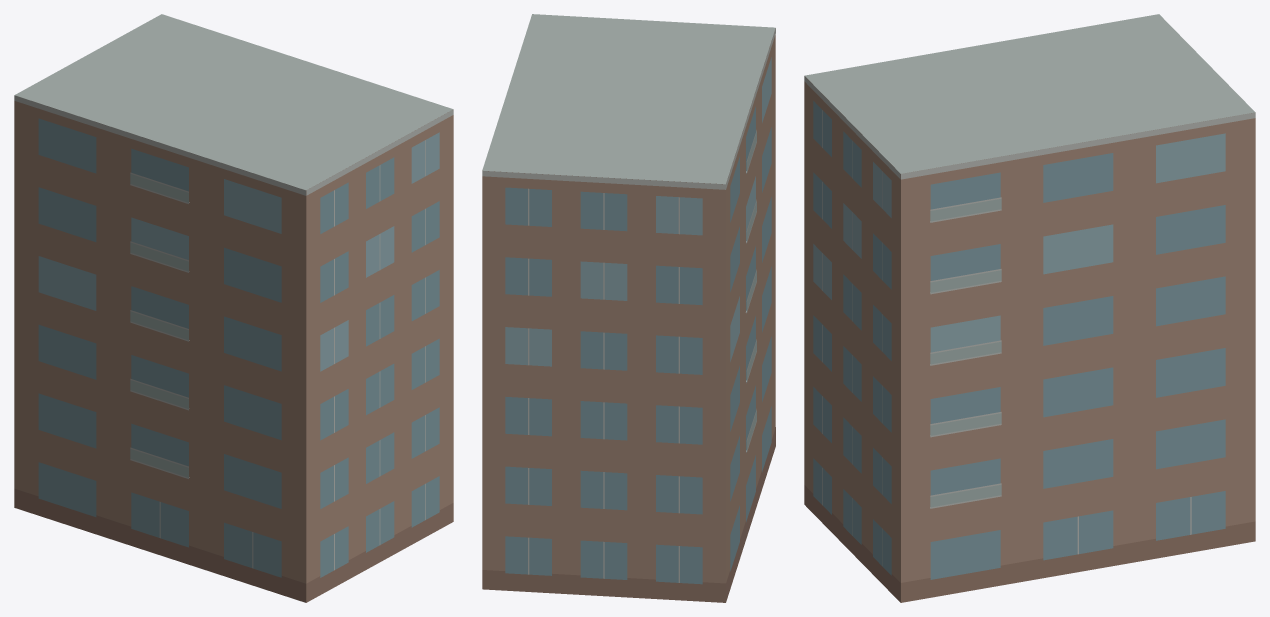
File: survey-upis-32582844.glb
The picture shows the model from 3 angles, left to right: view 1: azimuth 30°, elevation 25°; view 2: azimuth 150°, elevation 25°; view 3: azimuth 270°, elevation 25°; orthographic projection. The views are drawn at different scales.
Parts seen in each view (by area): view 1: survey-upis-32582844.tmp; view 2: survey-upis-32582844.tmp; view 3: survey-upis-32582844.tmp.
Boxes of the visible parts, x1,y1,x2,y2 form: survey-upis-32582844.tmp: (14, 14, 453, 602); survey-upis-32582844.tmp: (482, 14, 775, 602); survey-upis-32582844.tmp: (804, 14, 1255, 602).
Size of the model in its own units: 14.64 by 18.3 by 17.45.
